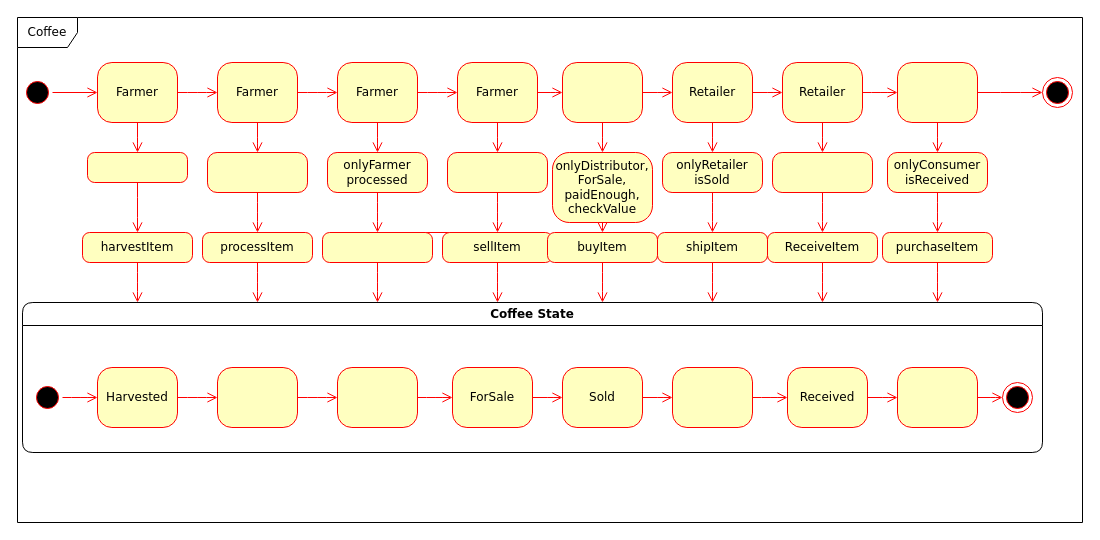
The diagram is 1100 pixels wide and 540 high, and some of its shapes have lost their labels. The centre of each missing label's shape, as x and y in pixels:
"Consumer" belongs at point (937, 92).
"Distributor" belongs at point (602, 92).
"onlyFarmer" belongs at point (137, 167).
"onlyFarmer harvested" belongs at point (257, 172).
"onlyFarmer packed" belongs at point (497, 172).
"onlyRetailer isShipped" belongs at point (822, 172).
"Packed" belongs at point (377, 397).
"packItem" belongs at point (377, 247).
"Processed" belongs at point (257, 397).
"Purchased" belongs at point (937, 397).
"Shipped" belongs at point (712, 397).
